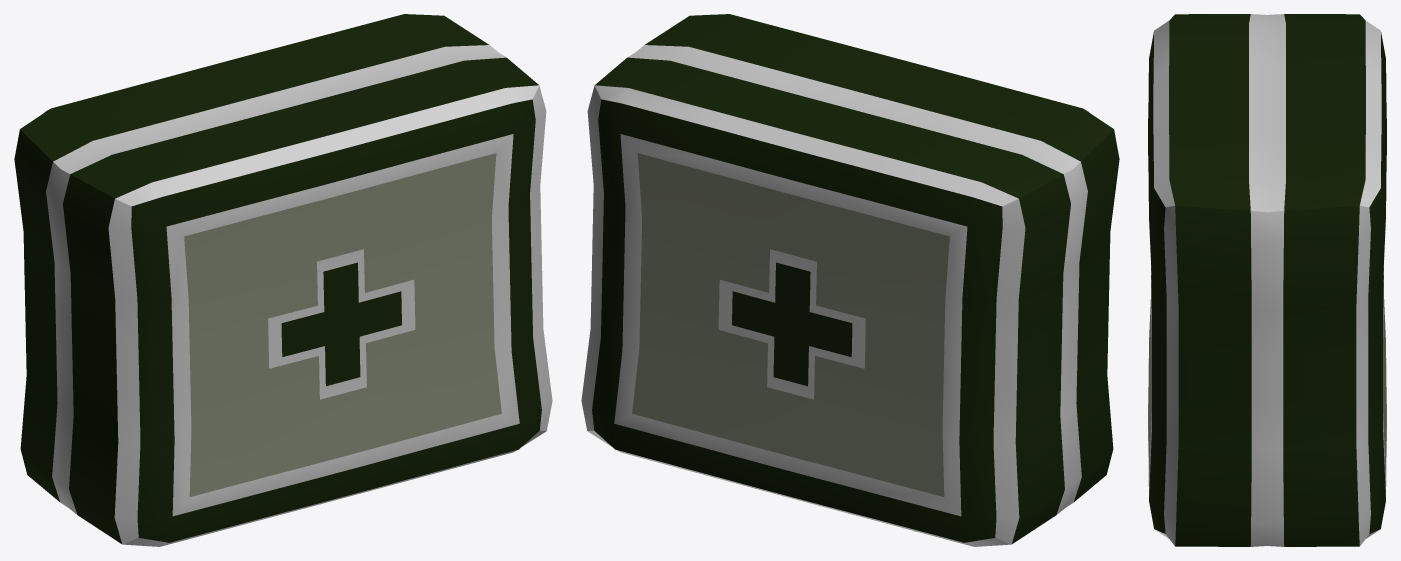
Rendered from healthPack.obj.
The picture shows the model from 3 angles, left to right: view 1: azimuth 30°, elevation 25°; view 2: azimuth 150°, elevation 25°; view 3: azimuth 270°, elevation 25°; orthographic projection. The views are drawn at different scales.
Visible parts, largest first — view 1: Health; view 2: Health; view 3: Health.
Boxes of the visible parts, <box> form: Health: <box>14,14,552,546</box>; Health: <box>581,14,1119,546</box>; Health: <box>1148,14,1386,546</box>.
Bounding box in the file's own units: 0.8722 × 0.7482 × 0.4039.
